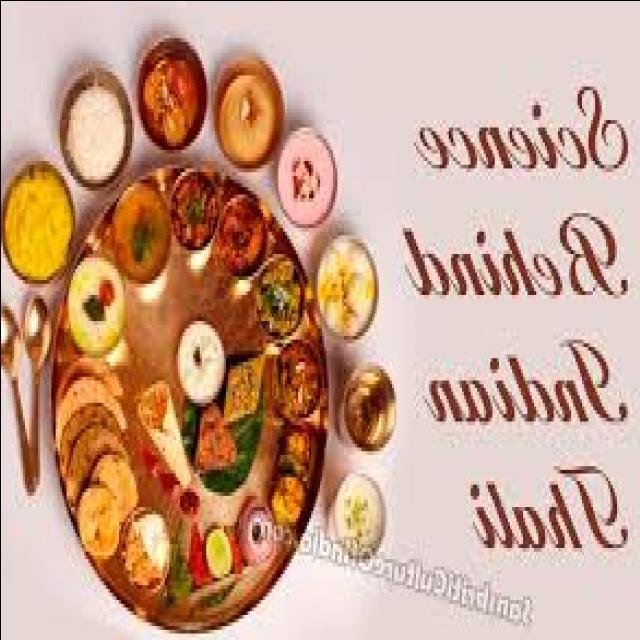dal: (3, 171, 77, 277)
pickle: (327, 359, 401, 463)
sweet: (208, 54, 287, 178), (56, 76, 132, 185), (138, 51, 209, 155), (186, 383, 244, 491), (261, 447, 321, 538)
